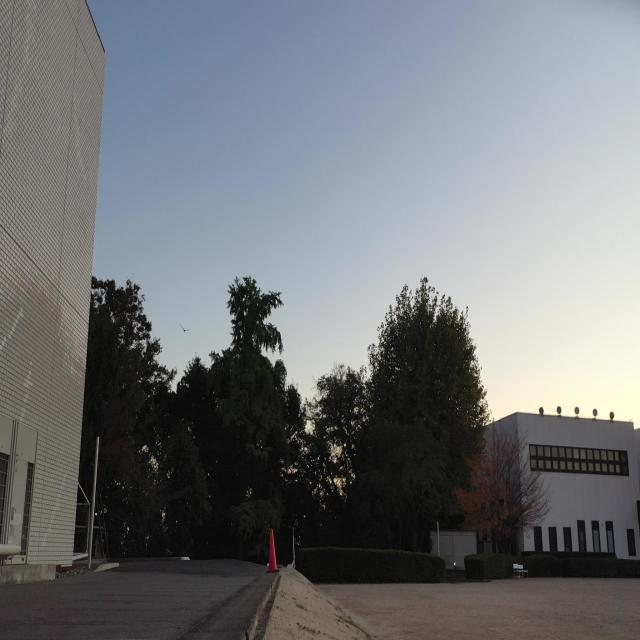Birds: (176, 321, 193, 338)
